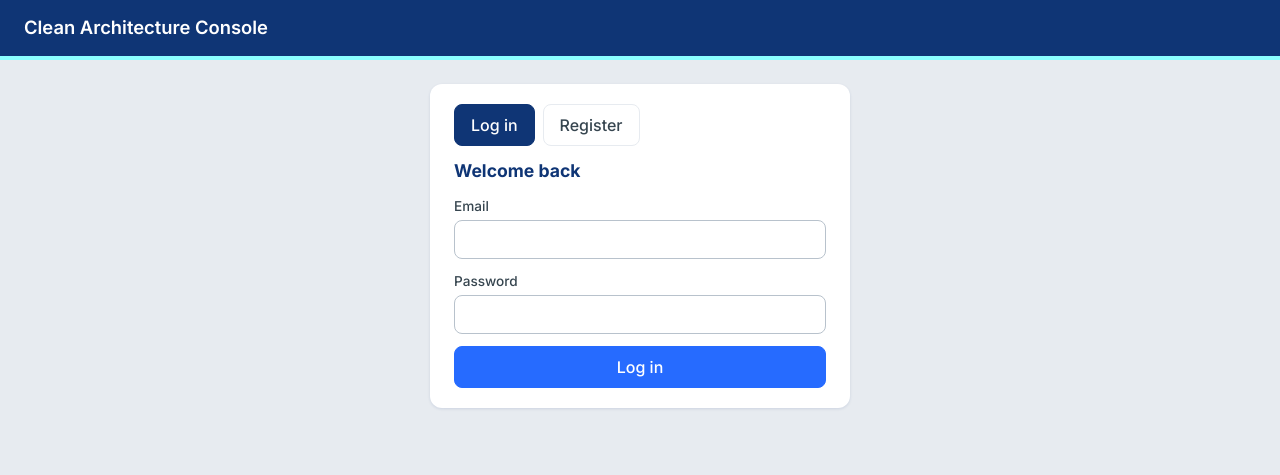
login errors › mc03 unknown user shows the API error
Type "ghost@example.com" into the field labelled "Email" at x=640, y=240, box [454,220,826,259]
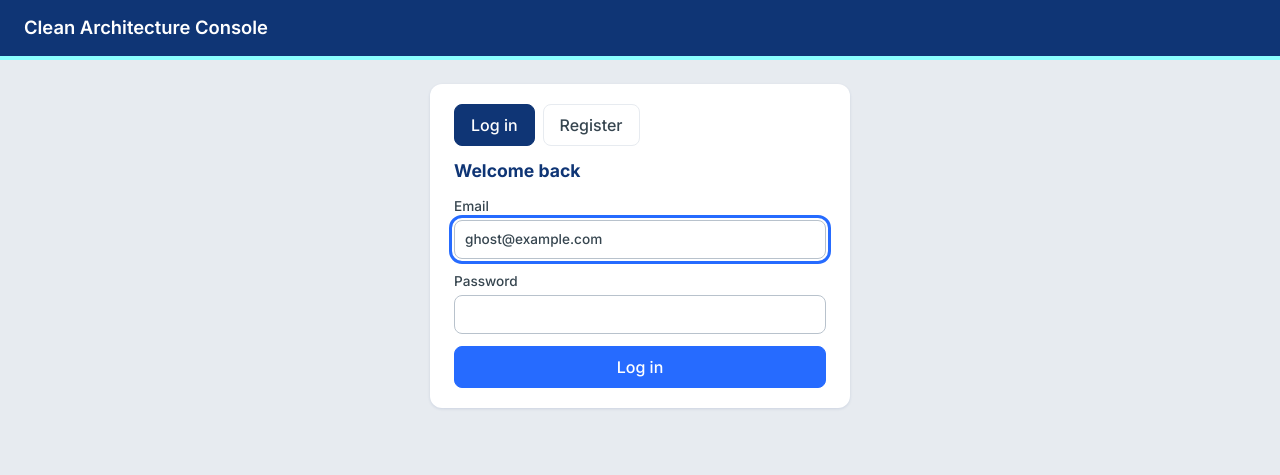
Type "x" into the password field labelled "Password" at x=640, y=314, box [454,295,826,334]
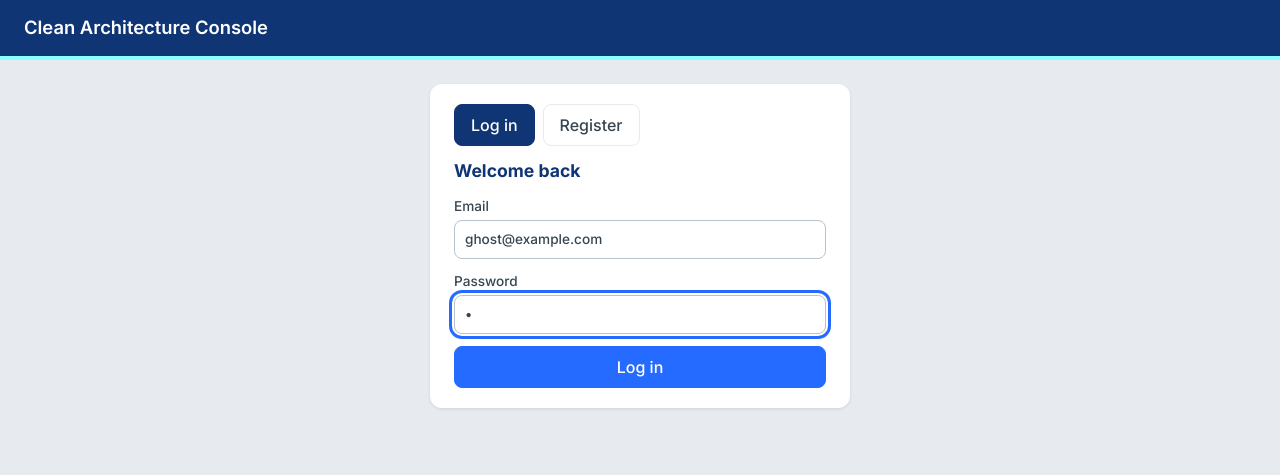
Click the button "Log in" at x=640, y=367, box [454,346,826,388]
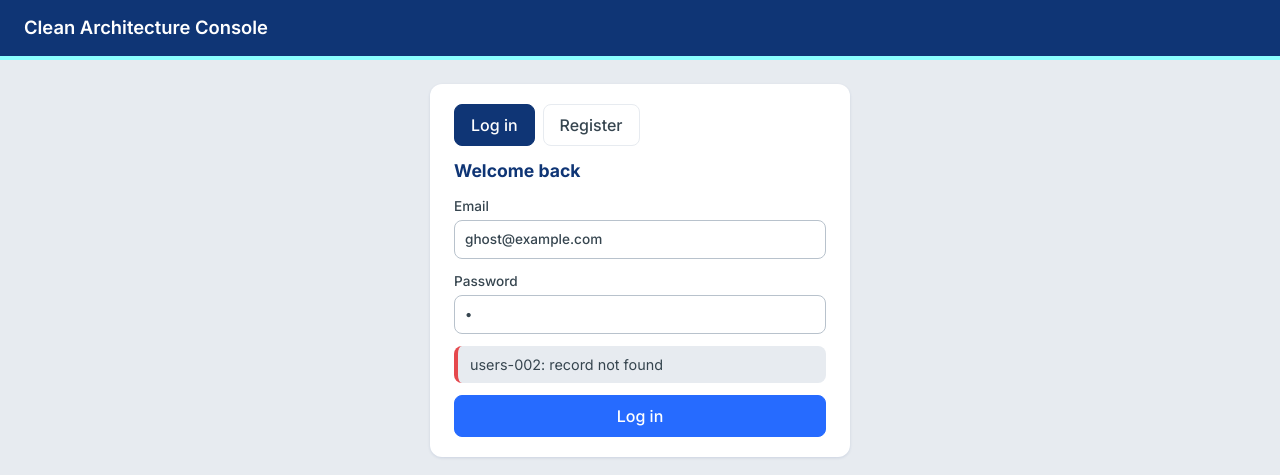
Expected: the message reads "users-002: record not found", [470,356,663,373]
